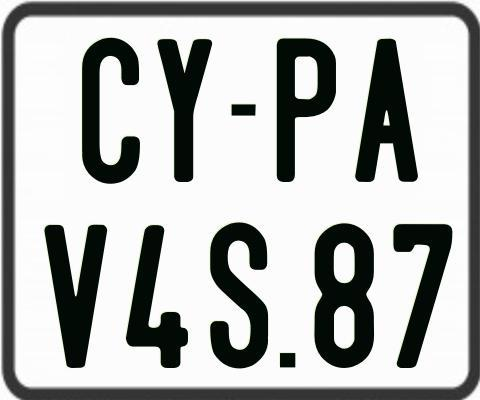4: (126, 224, 188, 373)
7: (391, 223, 451, 367)
8: (313, 220, 375, 369)
A: (353, 36, 419, 179)
C: (79, 38, 142, 190)
P: (274, 37, 339, 181)
S: (207, 221, 268, 373)
V: (44, 224, 107, 368)
Y: (154, 38, 209, 182)
